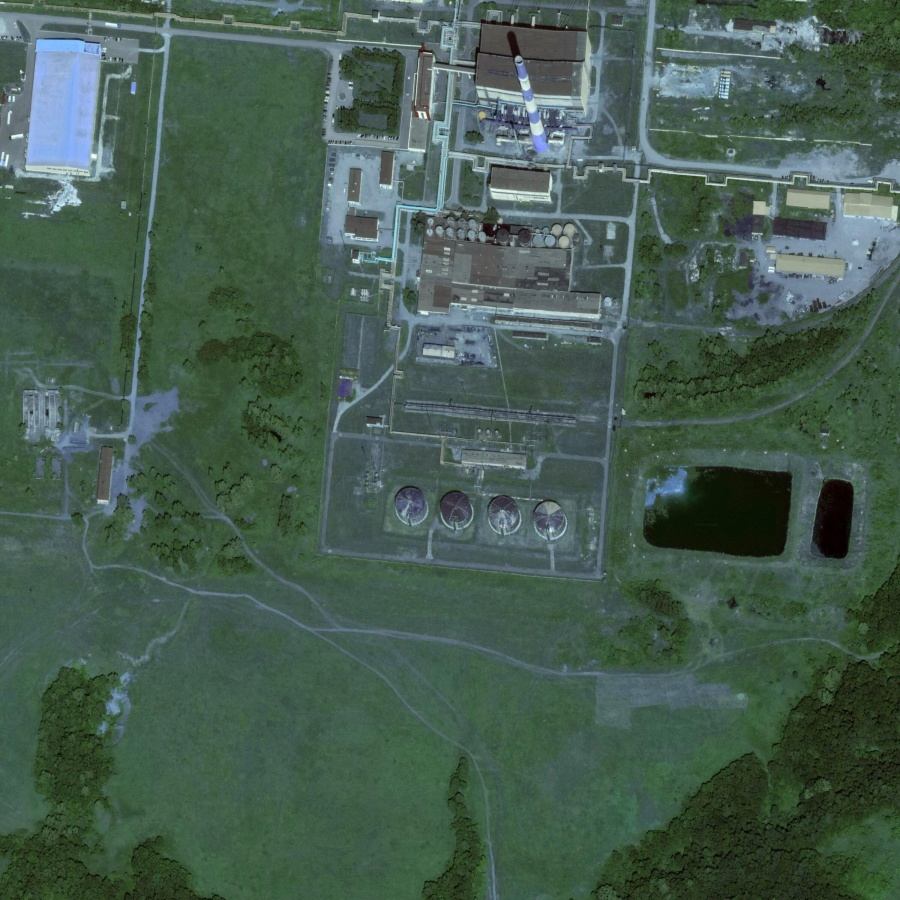PowerPlant: (388, 435, 598, 601), (633, 452, 867, 579)
